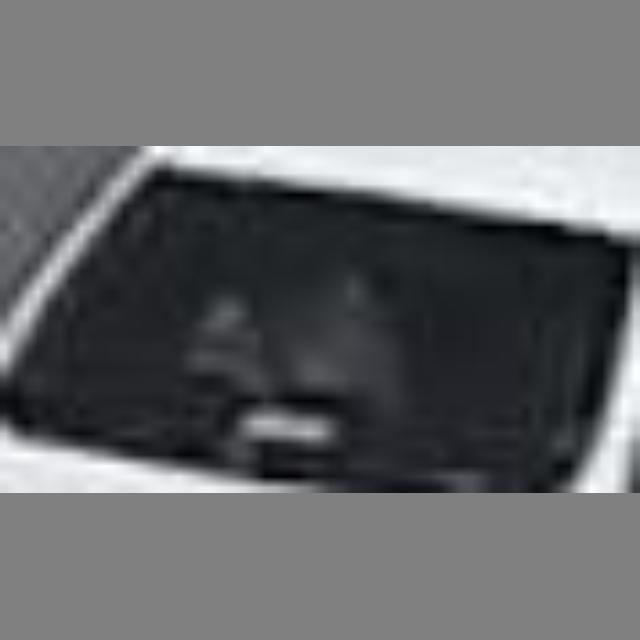pakai: (141, 233, 401, 417)
